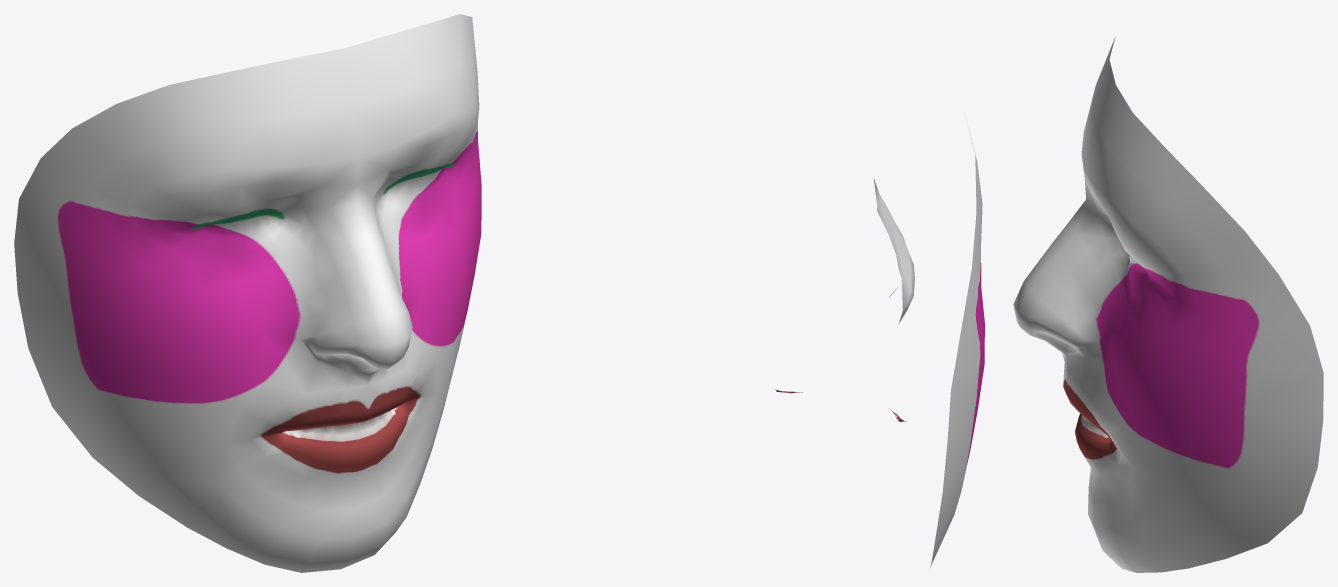
The model's file is Makeup.glb.
3 renders of one model, left to right at view 1: azimuth 30°, elevation 25°; view 2: azimuth 150°, elevation 25°; view 3: azimuth 270°, elevation 25°, orthographic. The views are drawn at different scales.
Visible parts, largest first — view 1: Makeup; view 2: Makeup; view 3: Makeup.
Part boxes in pixels (x1,y1,x2,y2): Makeup: [14, 14, 481, 572]; Makeup: [775, 130, 984, 567]; Makeup: [1013, 36, 1323, 572].
Bounding box in the file's own units: 0.1549 × 0.1767 × 0.1002.
1 material, 1 textured.
